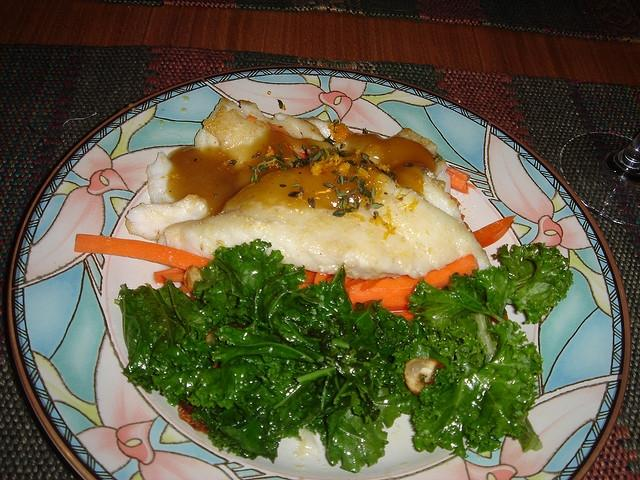carrot: (344, 255, 479, 312), (74, 234, 214, 271), (472, 215, 516, 248), (446, 166, 476, 194), (154, 268, 186, 284), (392, 310, 415, 322), (304, 270, 318, 284), (163, 274, 184, 283)
